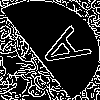A: (25, 25, 93, 78)
